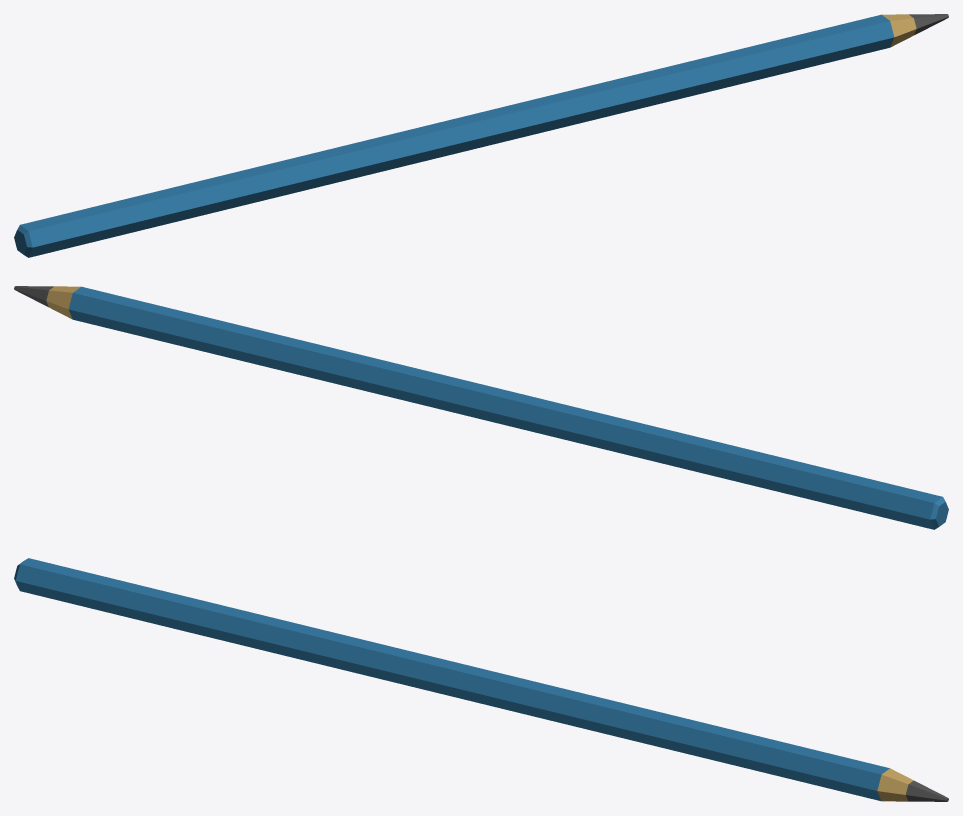
Rendered from Blyant_Blå.fbx.
The picture shows the model from 3 angles, top to bottom: view 1: azimuth 30°, elevation 25°; view 2: azimuth 150°, elevation 25°; view 3: azimuth 330°, elevation 25°; orthographic projection.
Visible parts, largest first — view 1: Cylinder.008; view 2: Cylinder.008; view 3: Cylinder.008.
Part boxes in pixels (box(x1,y1,x2,y2)): Cylinder.008: box(14, 14, 948, 257); Cylinder.008: box(14, 286, 948, 529); Cylinder.008: box(14, 558, 948, 801).
Size of the model in its own units: 32.67 by 0.9034 by 1.04.
